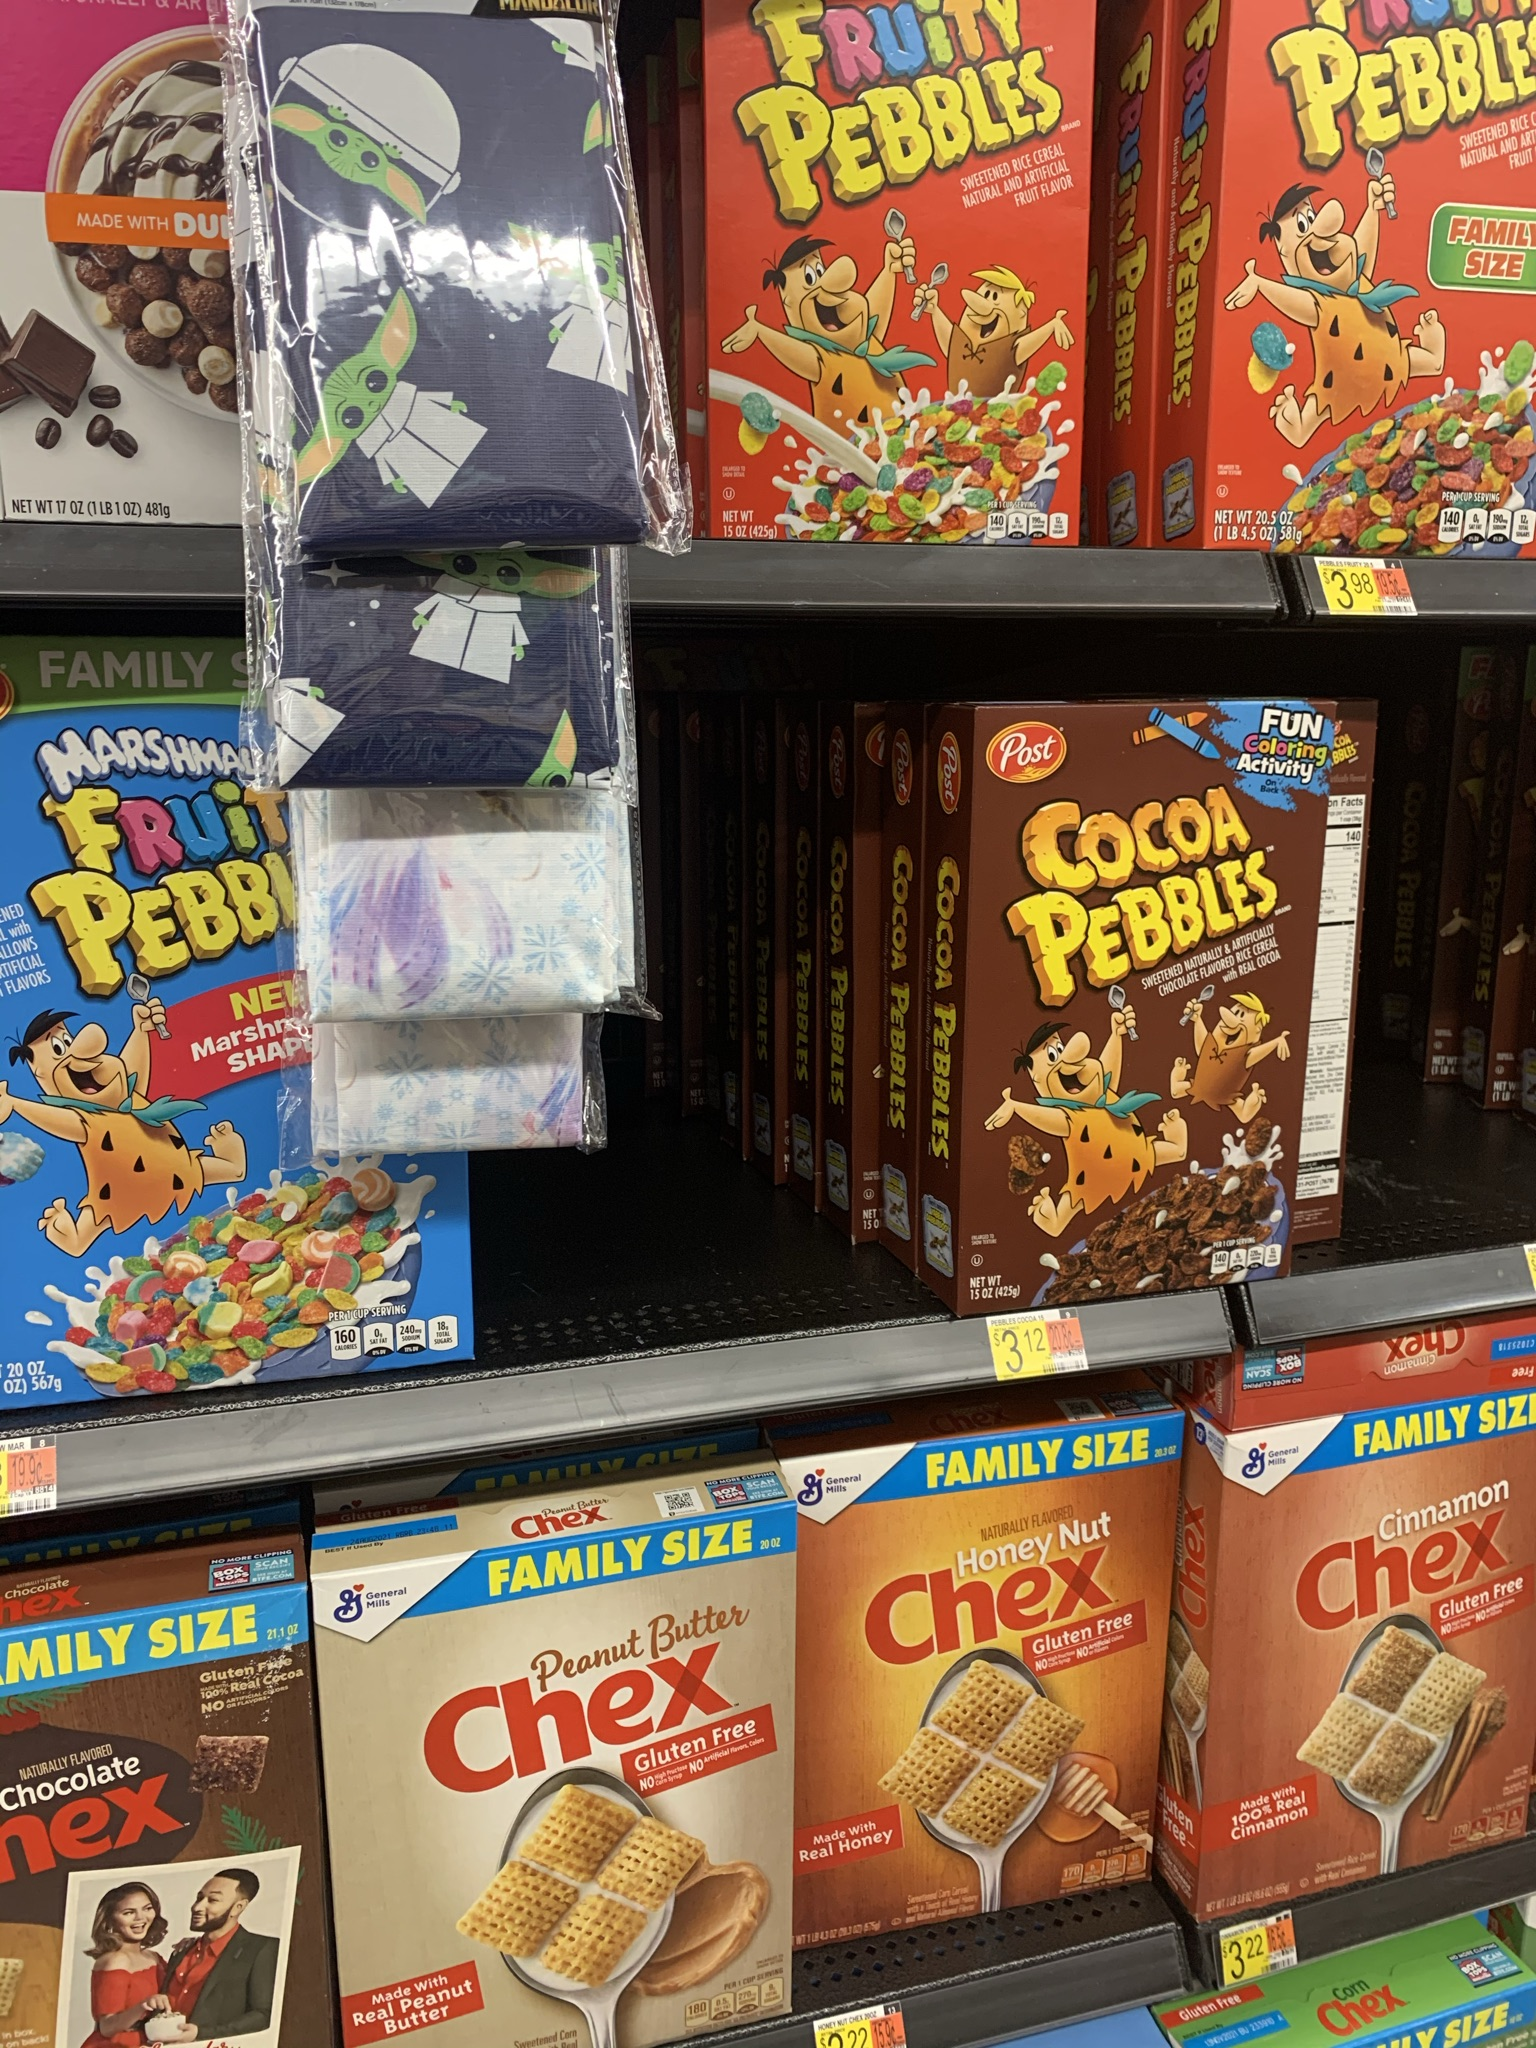box: (329, 1593, 786, 2033), (712, 21, 1075, 539), (989, 732, 1323, 1272), (1231, 23, 1536, 552), (2, 1605, 297, 2048), (831, 1476, 1136, 1887), (1244, 1453, 1518, 1872)
